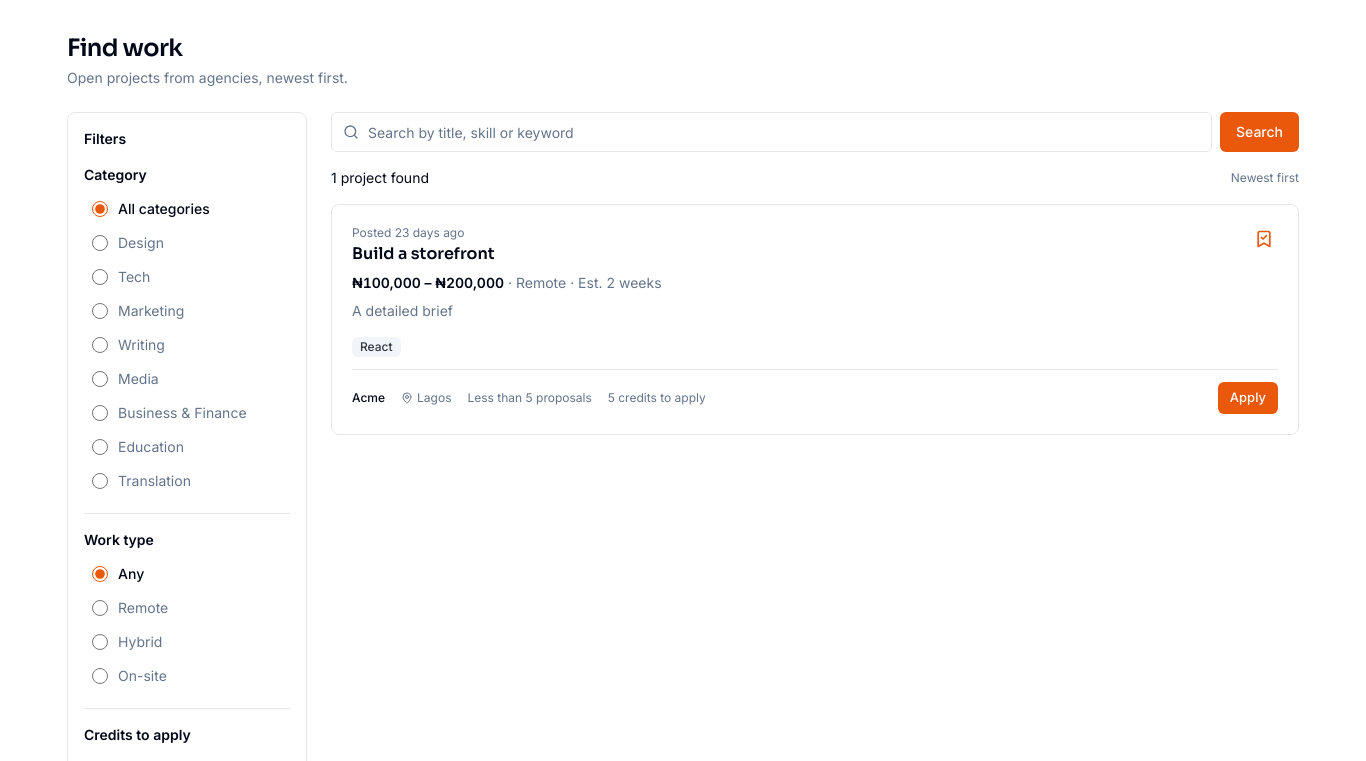
it: Marketplace › opens job details from the card and offers Submit a proposal when eligible
The image size is (1366, 761).
Click the button "Build a storefront" at {"x": 423, "y": 254}, box [352,243,495,265]
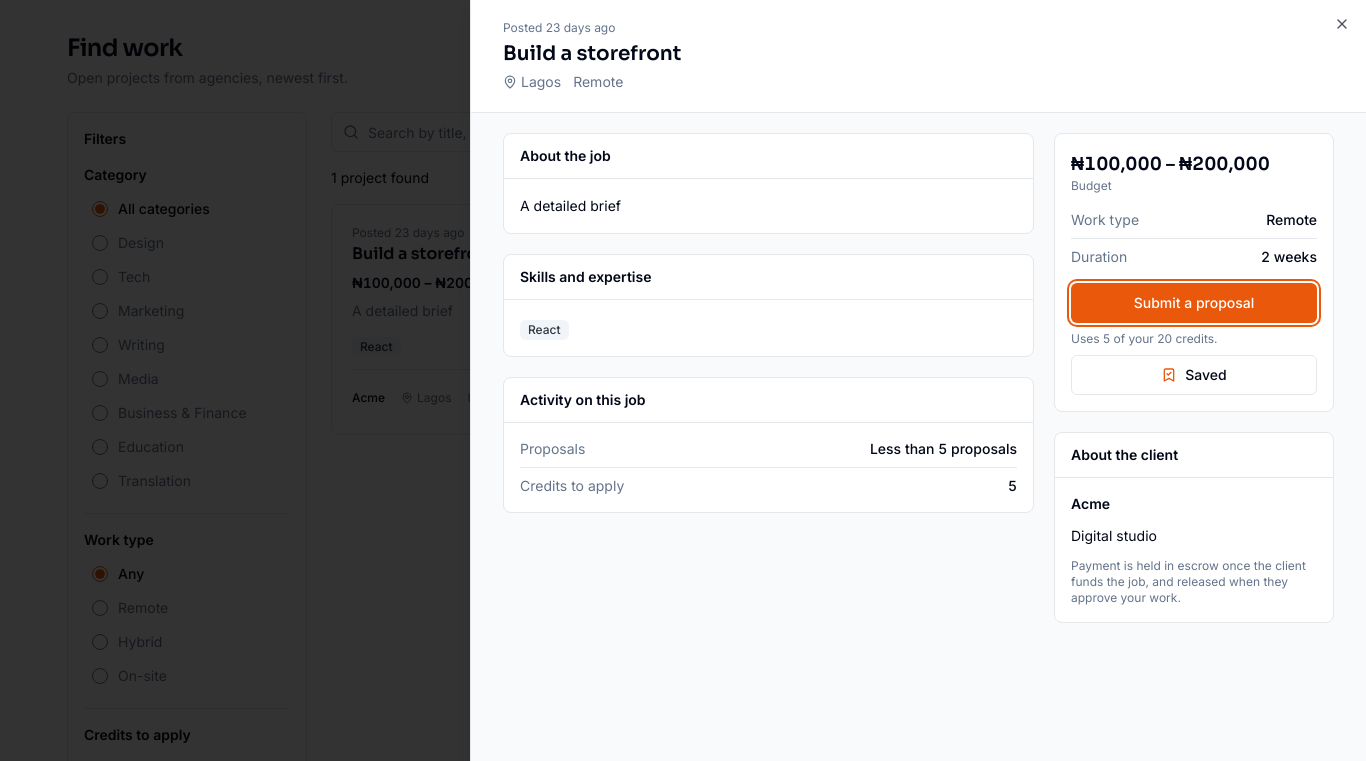
Expected: the text "A detailed brief" is shown, [520,196,621,214]
Expected: the text "Acme" is shown, [1071,494,1110,512]
Click the button "Submit a proposal" at {"x": 1194, "y": 302}, box [1071,282,1317,322]
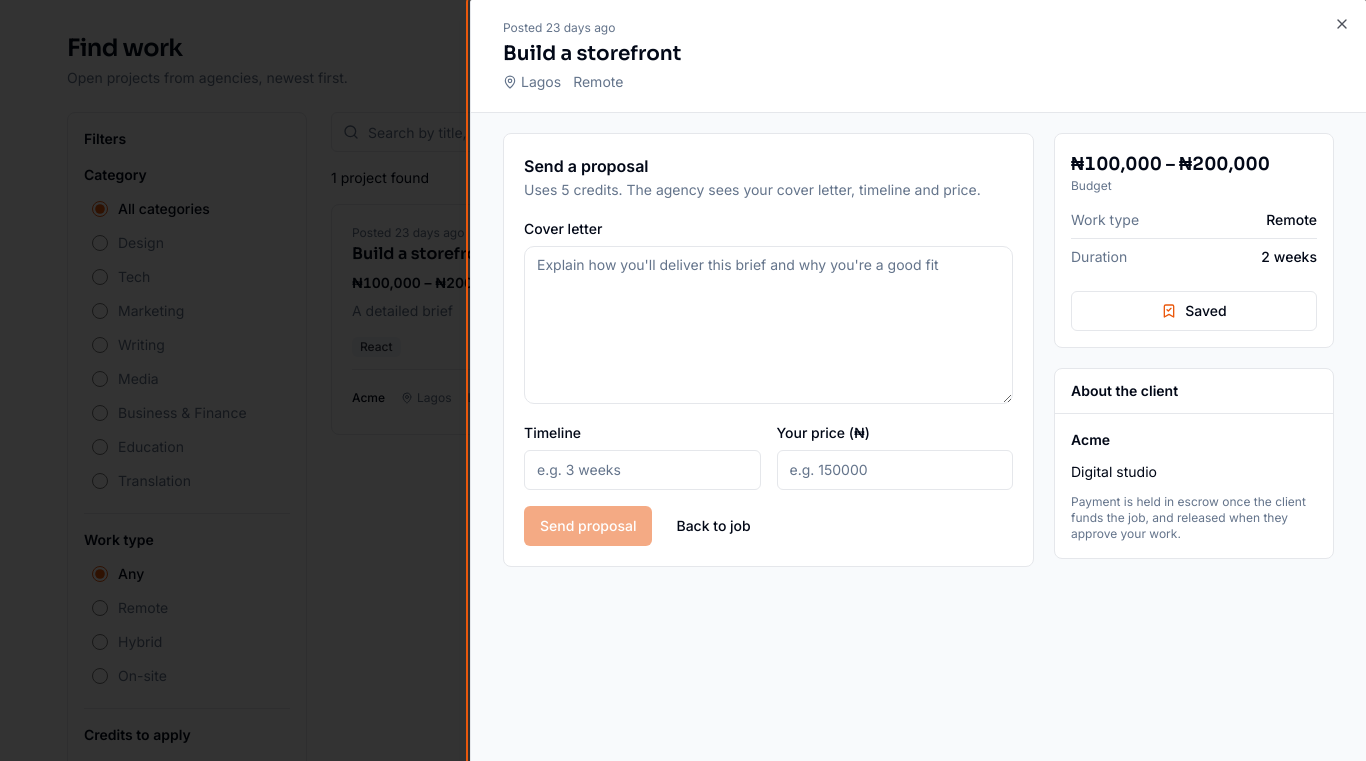
Expected: the text box named "Your proposal" is shown, [524,246,1013,404]
